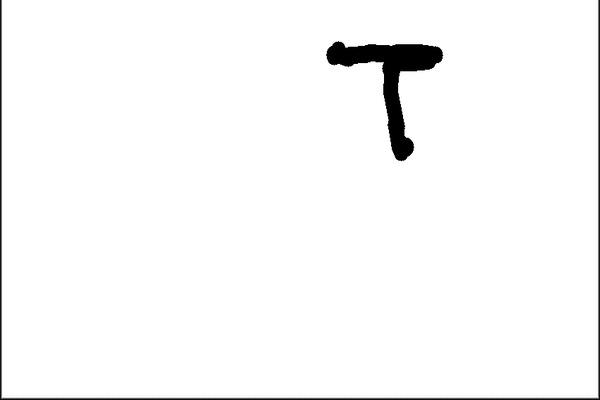T: (318, 22, 452, 161)
